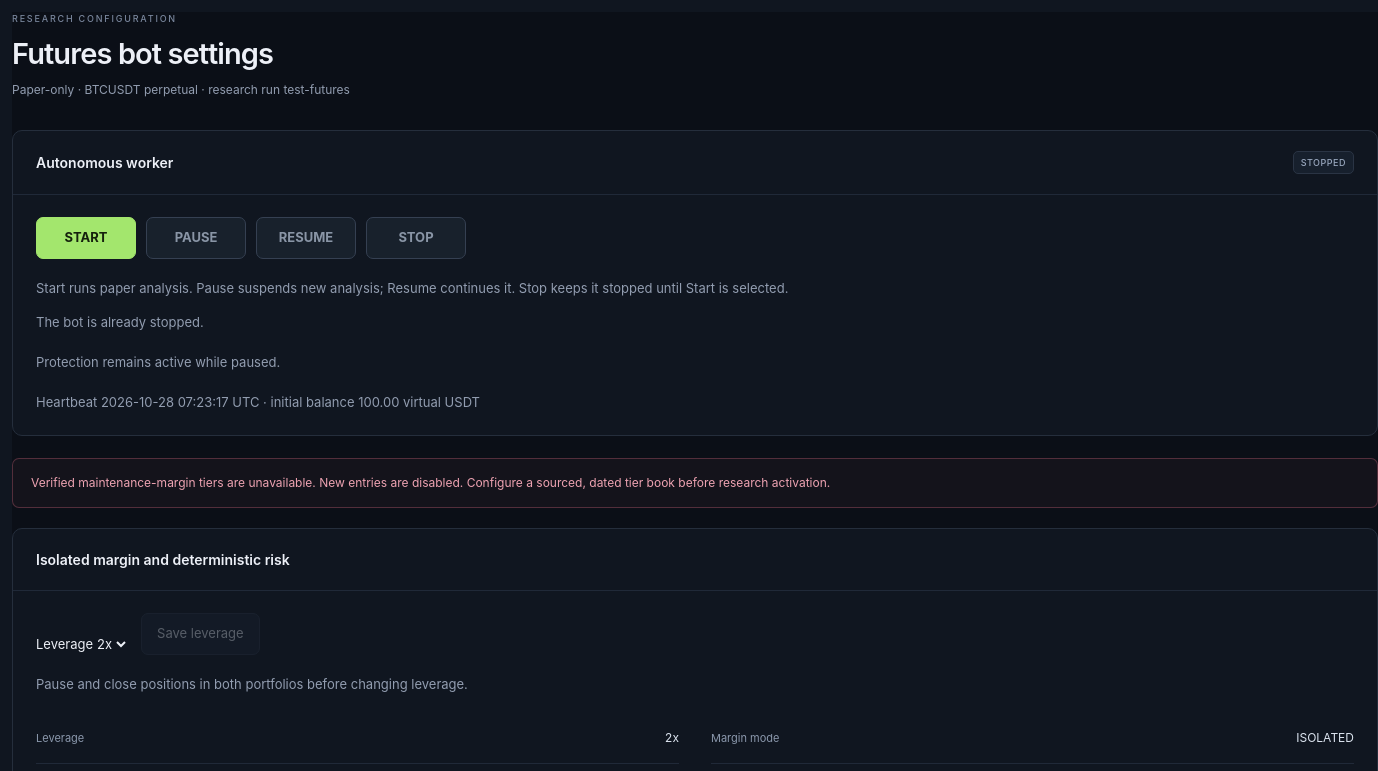
Test: runs start, pause, resume and stop through the API and refreshes control state
The image size is (1378, 771).
What coordinates should you click on to do the following:
click the button "START"
I would click on:
 (86, 238)
Its box is [36, 217, 136, 259].
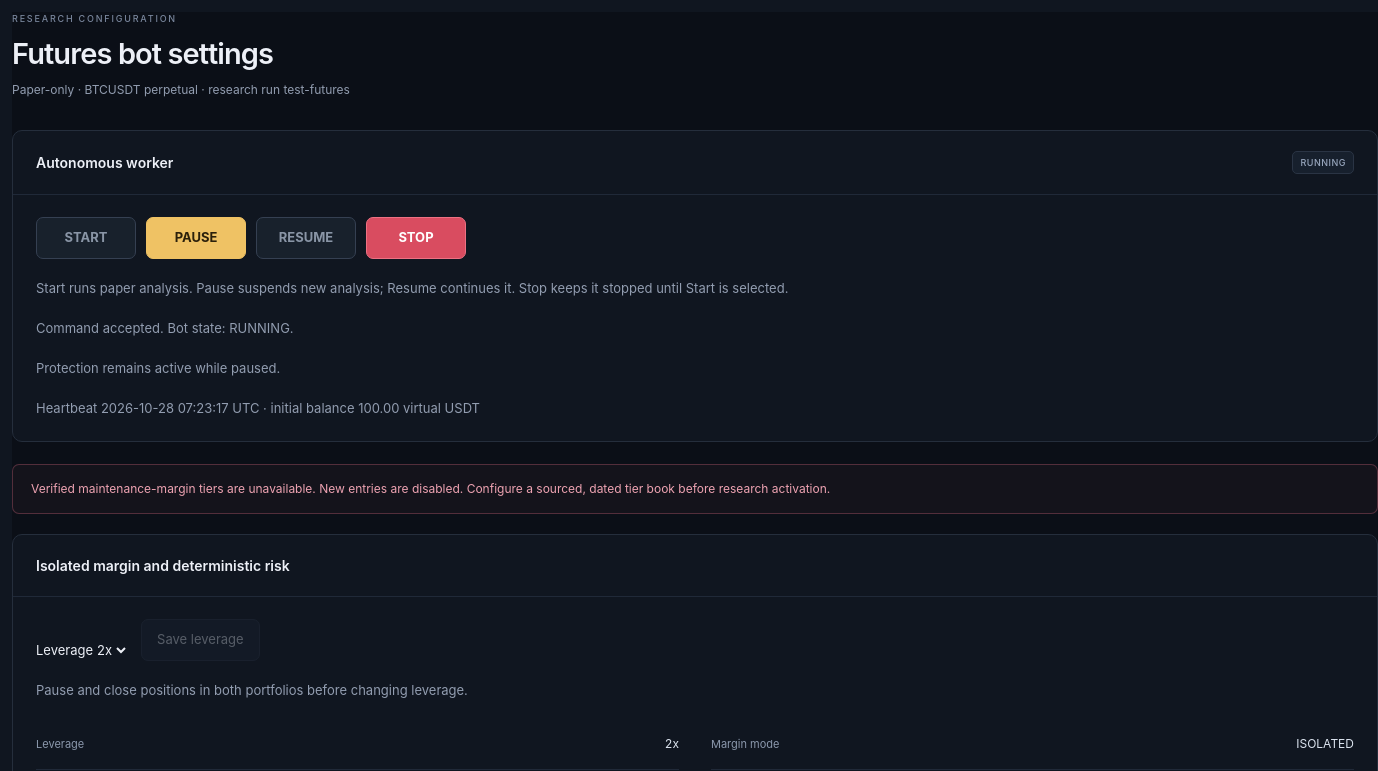
expect the button "PAUSE" is enabled: met
What coordinates should you click on to do the following:
click the button "PAUSE"
I would click on:
 (196, 238)
Its box is [146, 217, 246, 259].
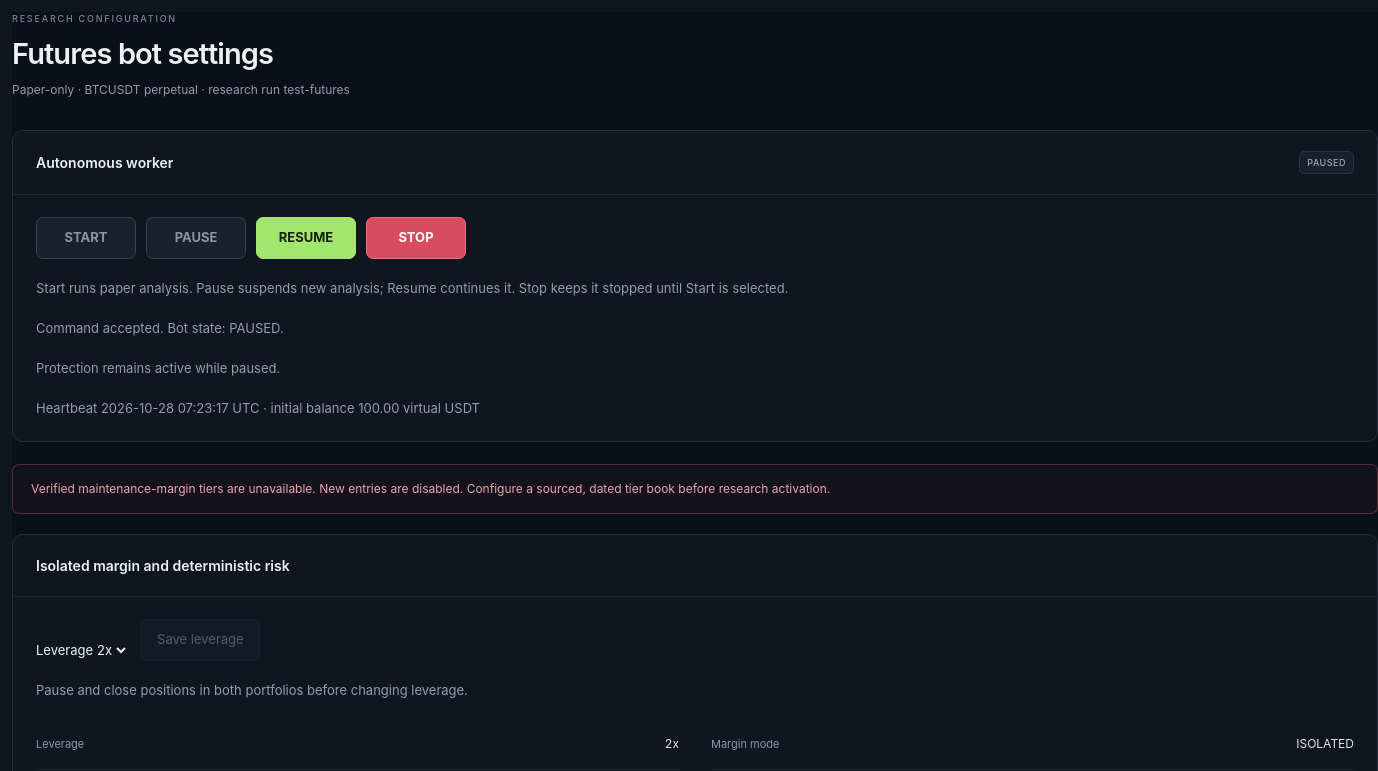
expect the button "RESUME" is enabled: met
What coordinates should you click on to do the following:
click the button "RESUME"
I would click on:
 (306, 238)
Its box is [256, 217, 356, 259].
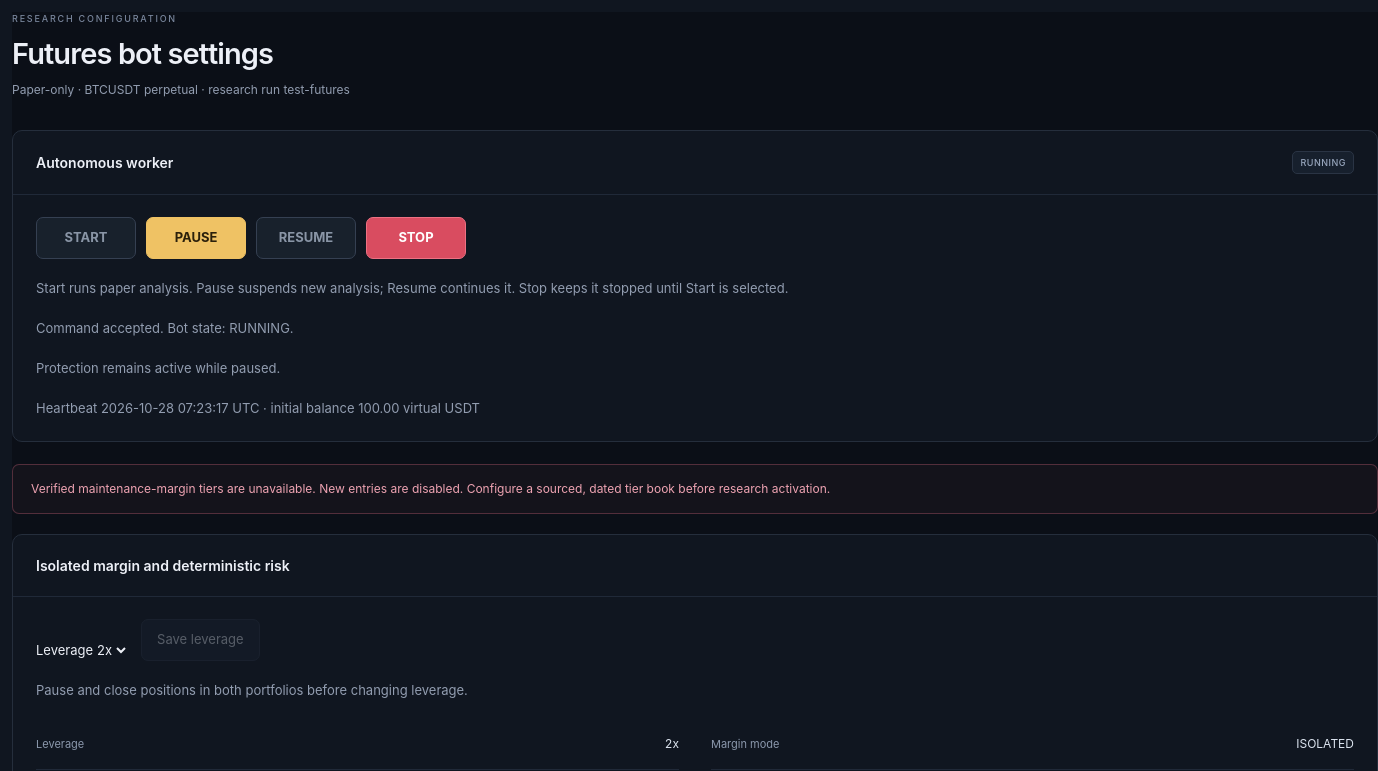
expect the button "STOP" is enabled: met
What coordinates should you click on to do the following:
click the button "STOP"
I would click on:
 (416, 238)
Its box is [366, 217, 466, 259].
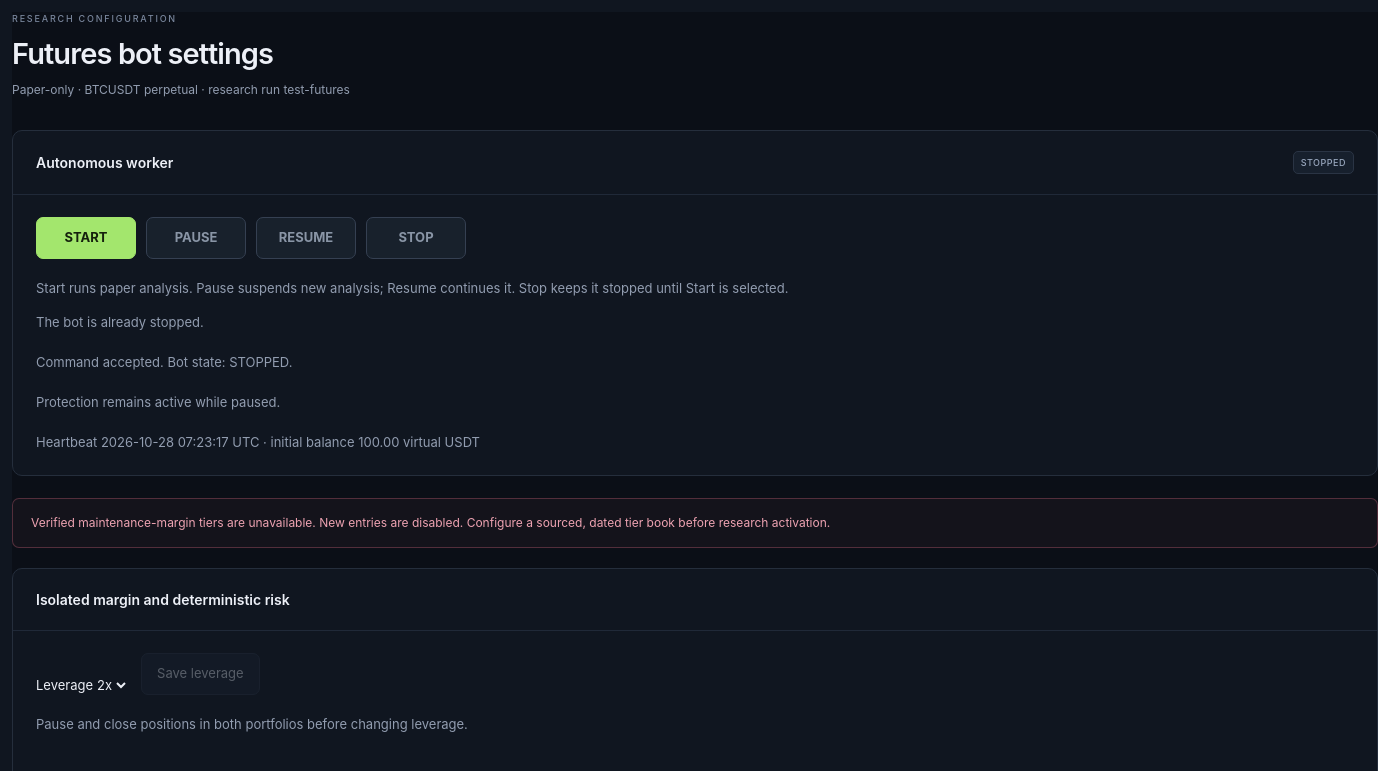
expect the button "START" is enabled: met, box [36, 217, 136, 259]
expect the button "STOP" is disabled: met, box [366, 217, 466, 259]
